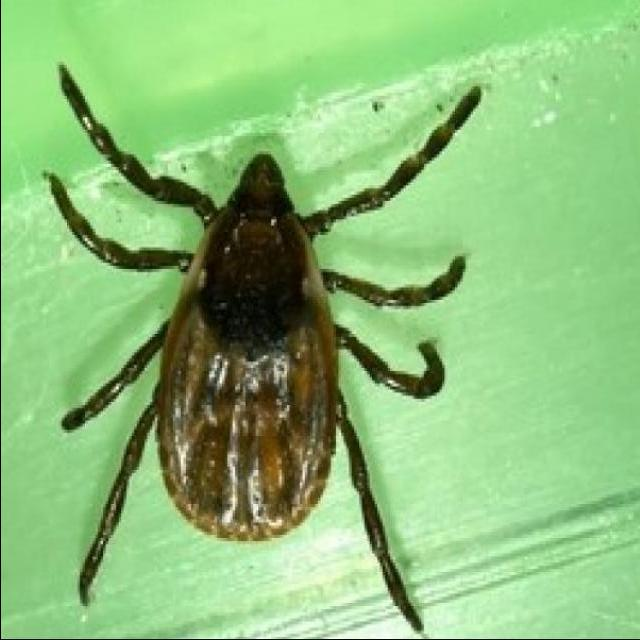Rhipicephalus Sanguineus-F: (43, 63, 482, 635)
